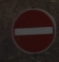No entry: (6, 6, 54, 57)
